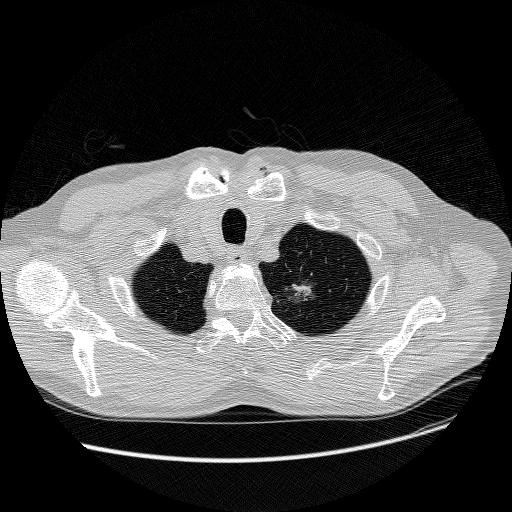nodule: (282, 275, 315, 308)
